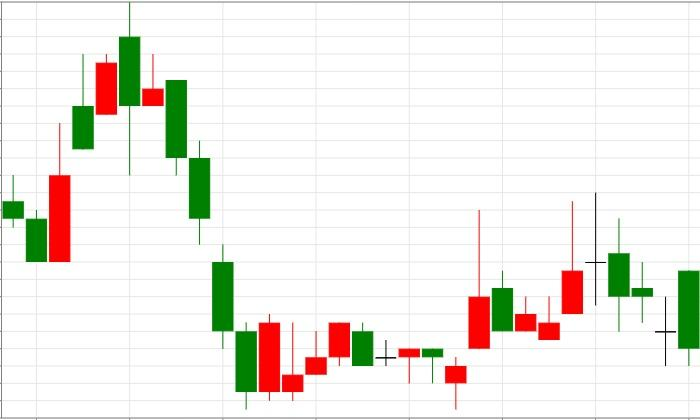inverse_hammer_rise: (118, 2, 305, 410)
three_white_soldiers_rise: (118, 2, 351, 410)
